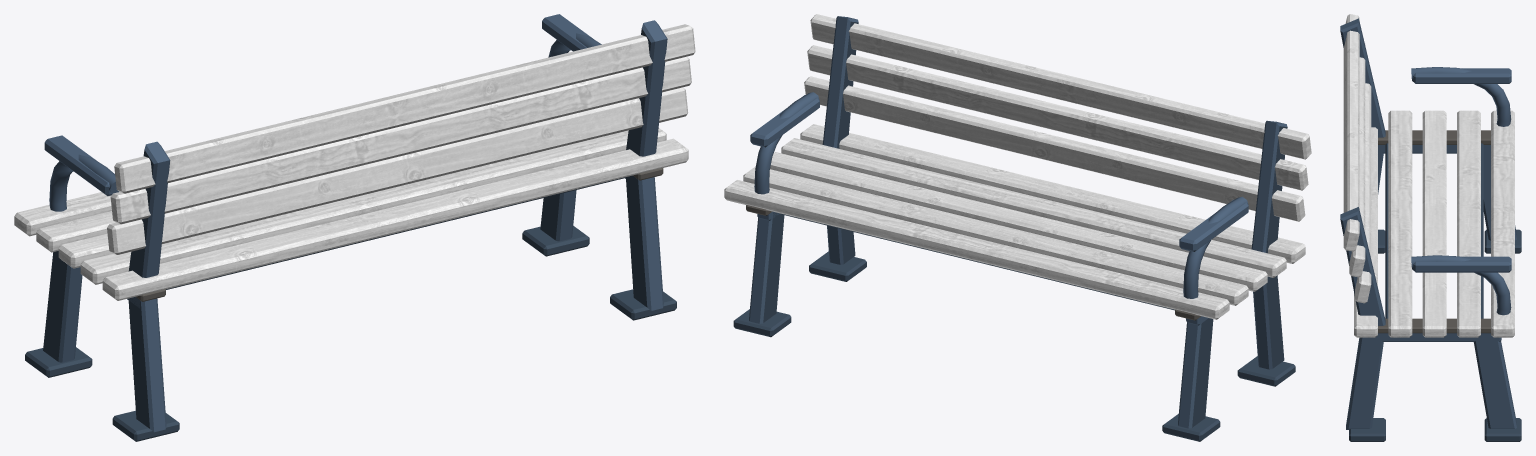
File: bench-portable.glb
3 renders of one model, left to right at view 1: azimuth 30°, elevation 25°; view 2: azimuth 150°, elevation 25°; view 3: azimuth 270°, elevation 25°, orthographic. The views are drawn at different scales.
Visible parts, largest first — view 1: bench.bench.back.slat-2.10, bench.bench.back.slat-1.9, bench.bench.back.slat-0.8, bench.bench.seat.slat-4.7, bench.bench.leg-0.78.0, bench.bench.leg0.78.1, bench.bench.seat.slat-3.6, bench.bench.seat.slat-0.3, bench.bench.seat.slat-1.4, bench.bench.seat.slat-2.5, bench.bench.seat.underframe.2; view 2: bench.bench.back.slat-1.9, bench.bench.back.slat-2.10, bench.bench.back.slat-0.8, bench.bench.leg-0.78.0, bench.bench.seat.slat-0.3, bench.bench.leg0.78.1, bench.bench.seat.slat-2.5, bench.bench.seat.slat-3.6, bench.bench.seat.slat-1.4, bench.bench.seat.slat-4.7, bench.bench.seat.underframe.2; view 3: bench.bench.leg0.78.1, bench.bench.seat.slat-3.6, bench.bench.seat.slat-2.5, bench.bench.seat.slat-1.4, bench.bench.leg-0.78.0, bench.bench.seat.slat-0.3, bench.bench.back.slat-2.10, bench.bench.seat.underframe.2, bench.bench.seat.slat-4.7, bench.bench.back.slat-1.9, bench.bench.back.slat-0.8.
Part boxes in pixels (x1,y1,x2,y2): bench.bench.back.slat-2.10: (114, 24, 695, 193); bench.bench.back.slat-1.9: (110, 56, 691, 224); bench.bench.back.slat-0.8: (107, 87, 688, 254); bench.bench.seat.slat-4.7: (102, 138, 688, 300); bench.bench.leg-0.78.0: (25, 135, 179, 441); bench.bench.leg0.78.1: (522, 14, 676, 320); bench.bench.seat.slat-3.6: (80, 128, 666, 284); bench.bench.seat.slat-0.3: (14, 192, 111, 236); bench.bench.seat.slat-1.4: (36, 211, 115, 252); bench.bench.seat.slat-2.5: (58, 233, 112, 268); bench.bench.seat.underframe.2: (135, 168, 663, 301); bench.bench.back.slat-1.9: (807, 45, 1308, 190); bench.bench.back.slat-2.10: (810, 14, 1311, 159); bench.bench.back.slat-0.8: (804, 76, 1305, 221); bench.bench.leg-0.78.0: (1162, 120, 1295, 441); bench.bench.seat.slat-0.3: (724, 180, 1229, 319); bench.bench.leg0.78.1: (733, 16, 866, 337); bench.bench.seat.slat-2.5: (770, 152, 1267, 291); bench.bench.seat.slat-3.6: (781, 138, 1286, 277); bench.bench.seat.slat-1.4: (743, 166, 1248, 305); bench.bench.seat.slat-4.7: (800, 124, 1305, 263); bench.bench.seat.underframe.2: (746, 205, 1200, 320); bench.bench.leg0.78.1: (1340, 207, 1521, 441); bench.bench.seat.slat-3.6: (1388, 110, 1412, 337); bench.bench.seat.slat-2.5: (1422, 110, 1446, 337); bench.bench.seat.slat-1.4: (1457, 110, 1480, 337); bench.bench.leg-0.78.0: (1340, 18, 1521, 253); bench.bench.seat.slat-0.3: (1491, 110, 1514, 337); bench.bench.back.slat-2.10: (1343, 14, 1359, 251); bench.bench.seat.underframe.2: (1378, 130, 1490, 333); bench.bench.seat.slat-4.7: (1354, 127, 1377, 337); bench.bench.back.slat-1.9: (1349, 43, 1365, 277); bench.bench.back.slat-0.8: (1355, 70, 1371, 303).
Bounding box in the file's own units: 1.8 × 0.87 × 0.635.
Materials: 4 (1 with a texture image).
